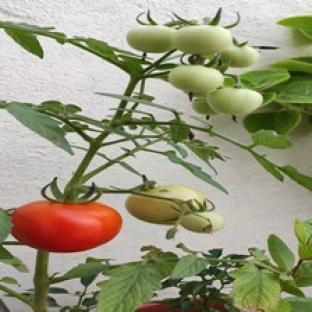Tomato: (12, 201, 122, 252), (126, 184, 211, 224), (173, 26, 232, 55), (169, 65, 224, 93), (208, 88, 263, 115), (127, 26, 175, 52), (182, 211, 224, 233), (221, 45, 260, 68), (193, 98, 217, 115)
